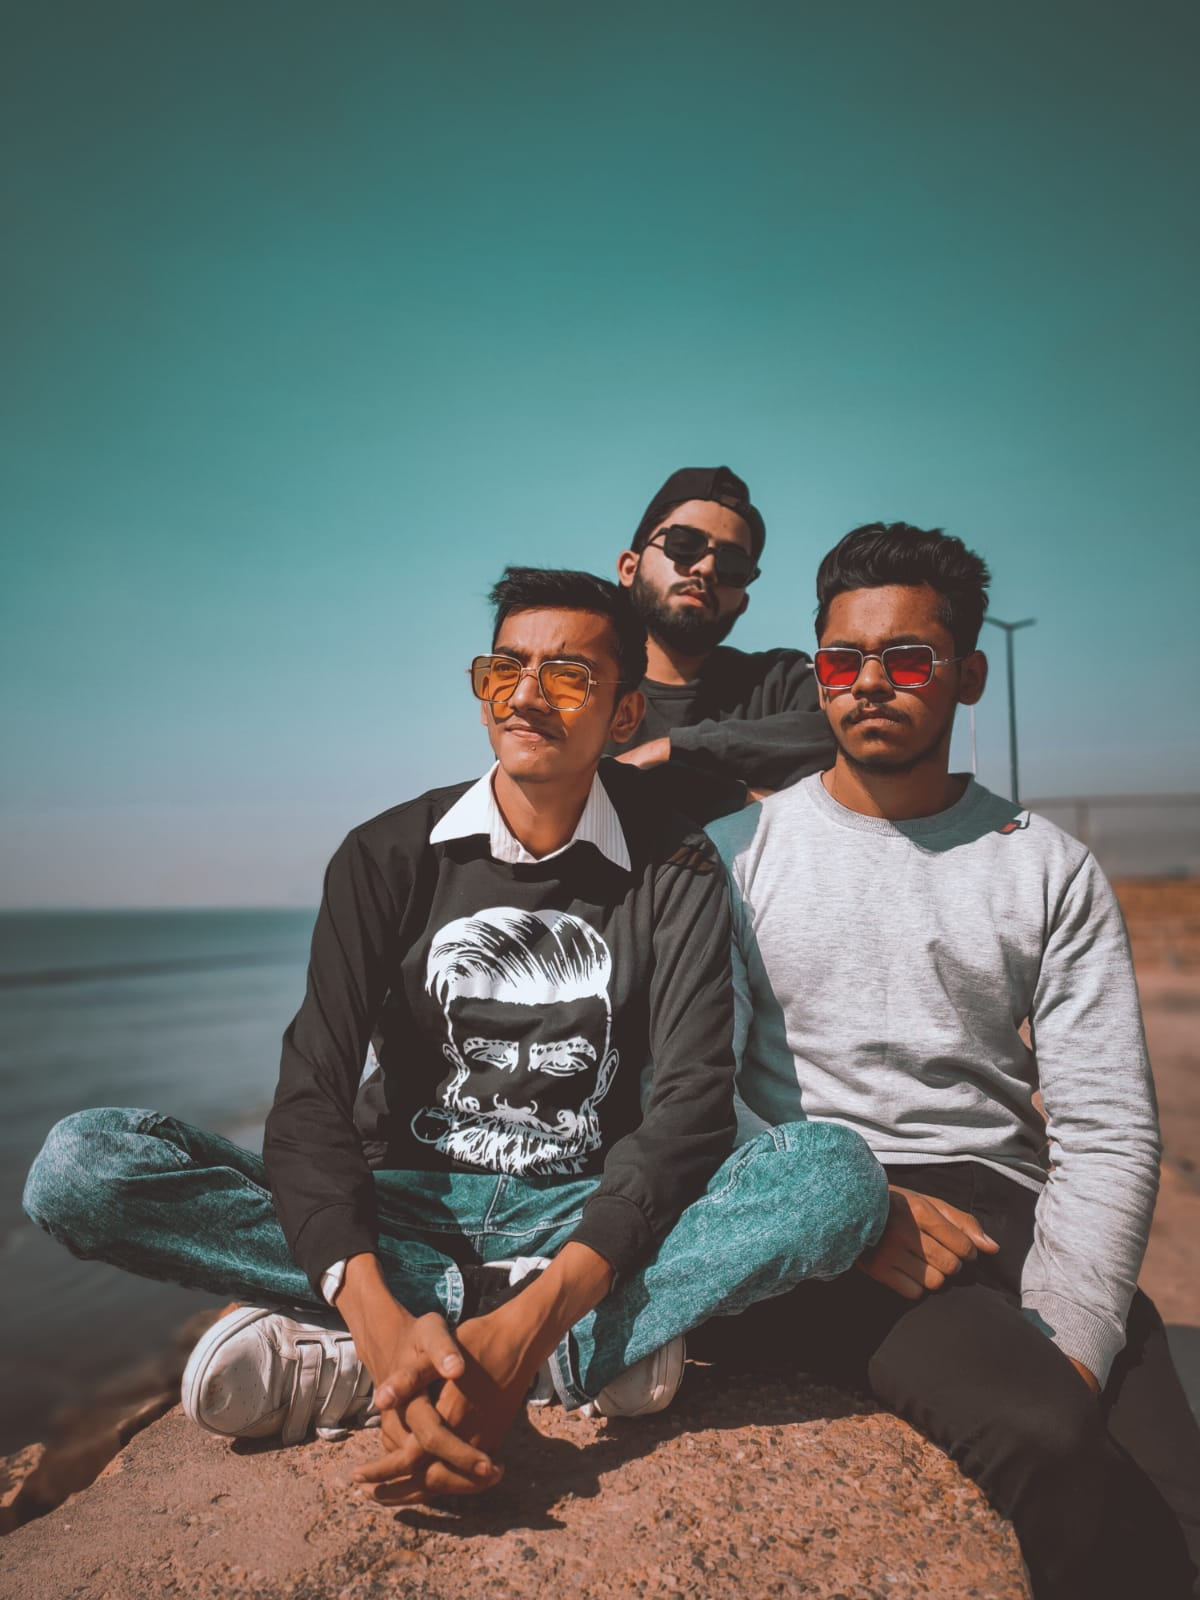NoMask: (478, 637, 603, 787), (813, 635, 940, 775), (655, 517, 755, 645)
